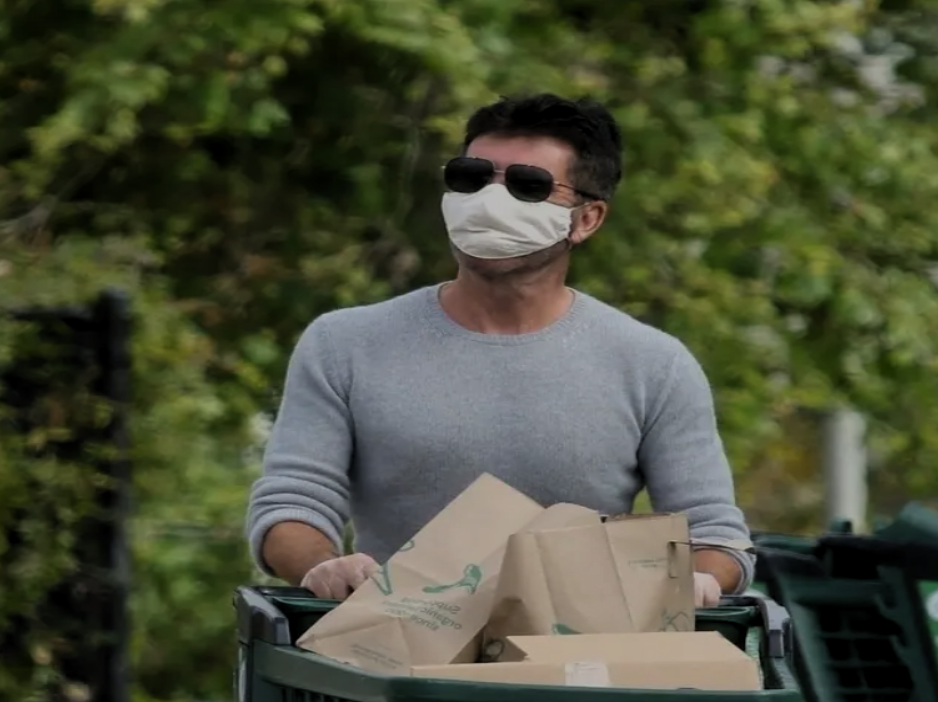mask_weared_incorrect: (432, 98, 625, 280)
